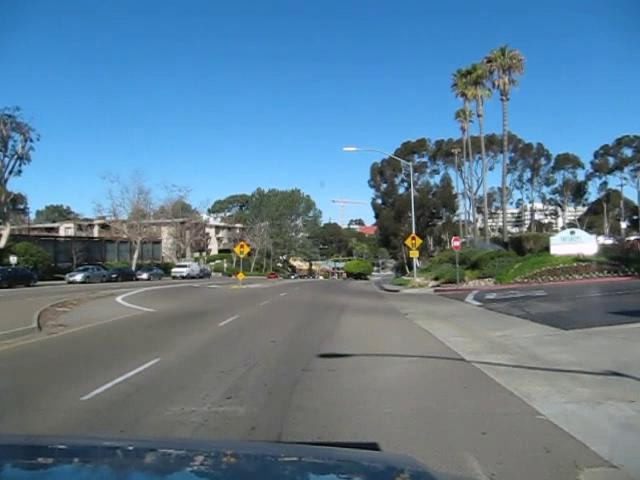signalAhead: (403, 232, 423, 251), (233, 240, 249, 257)
